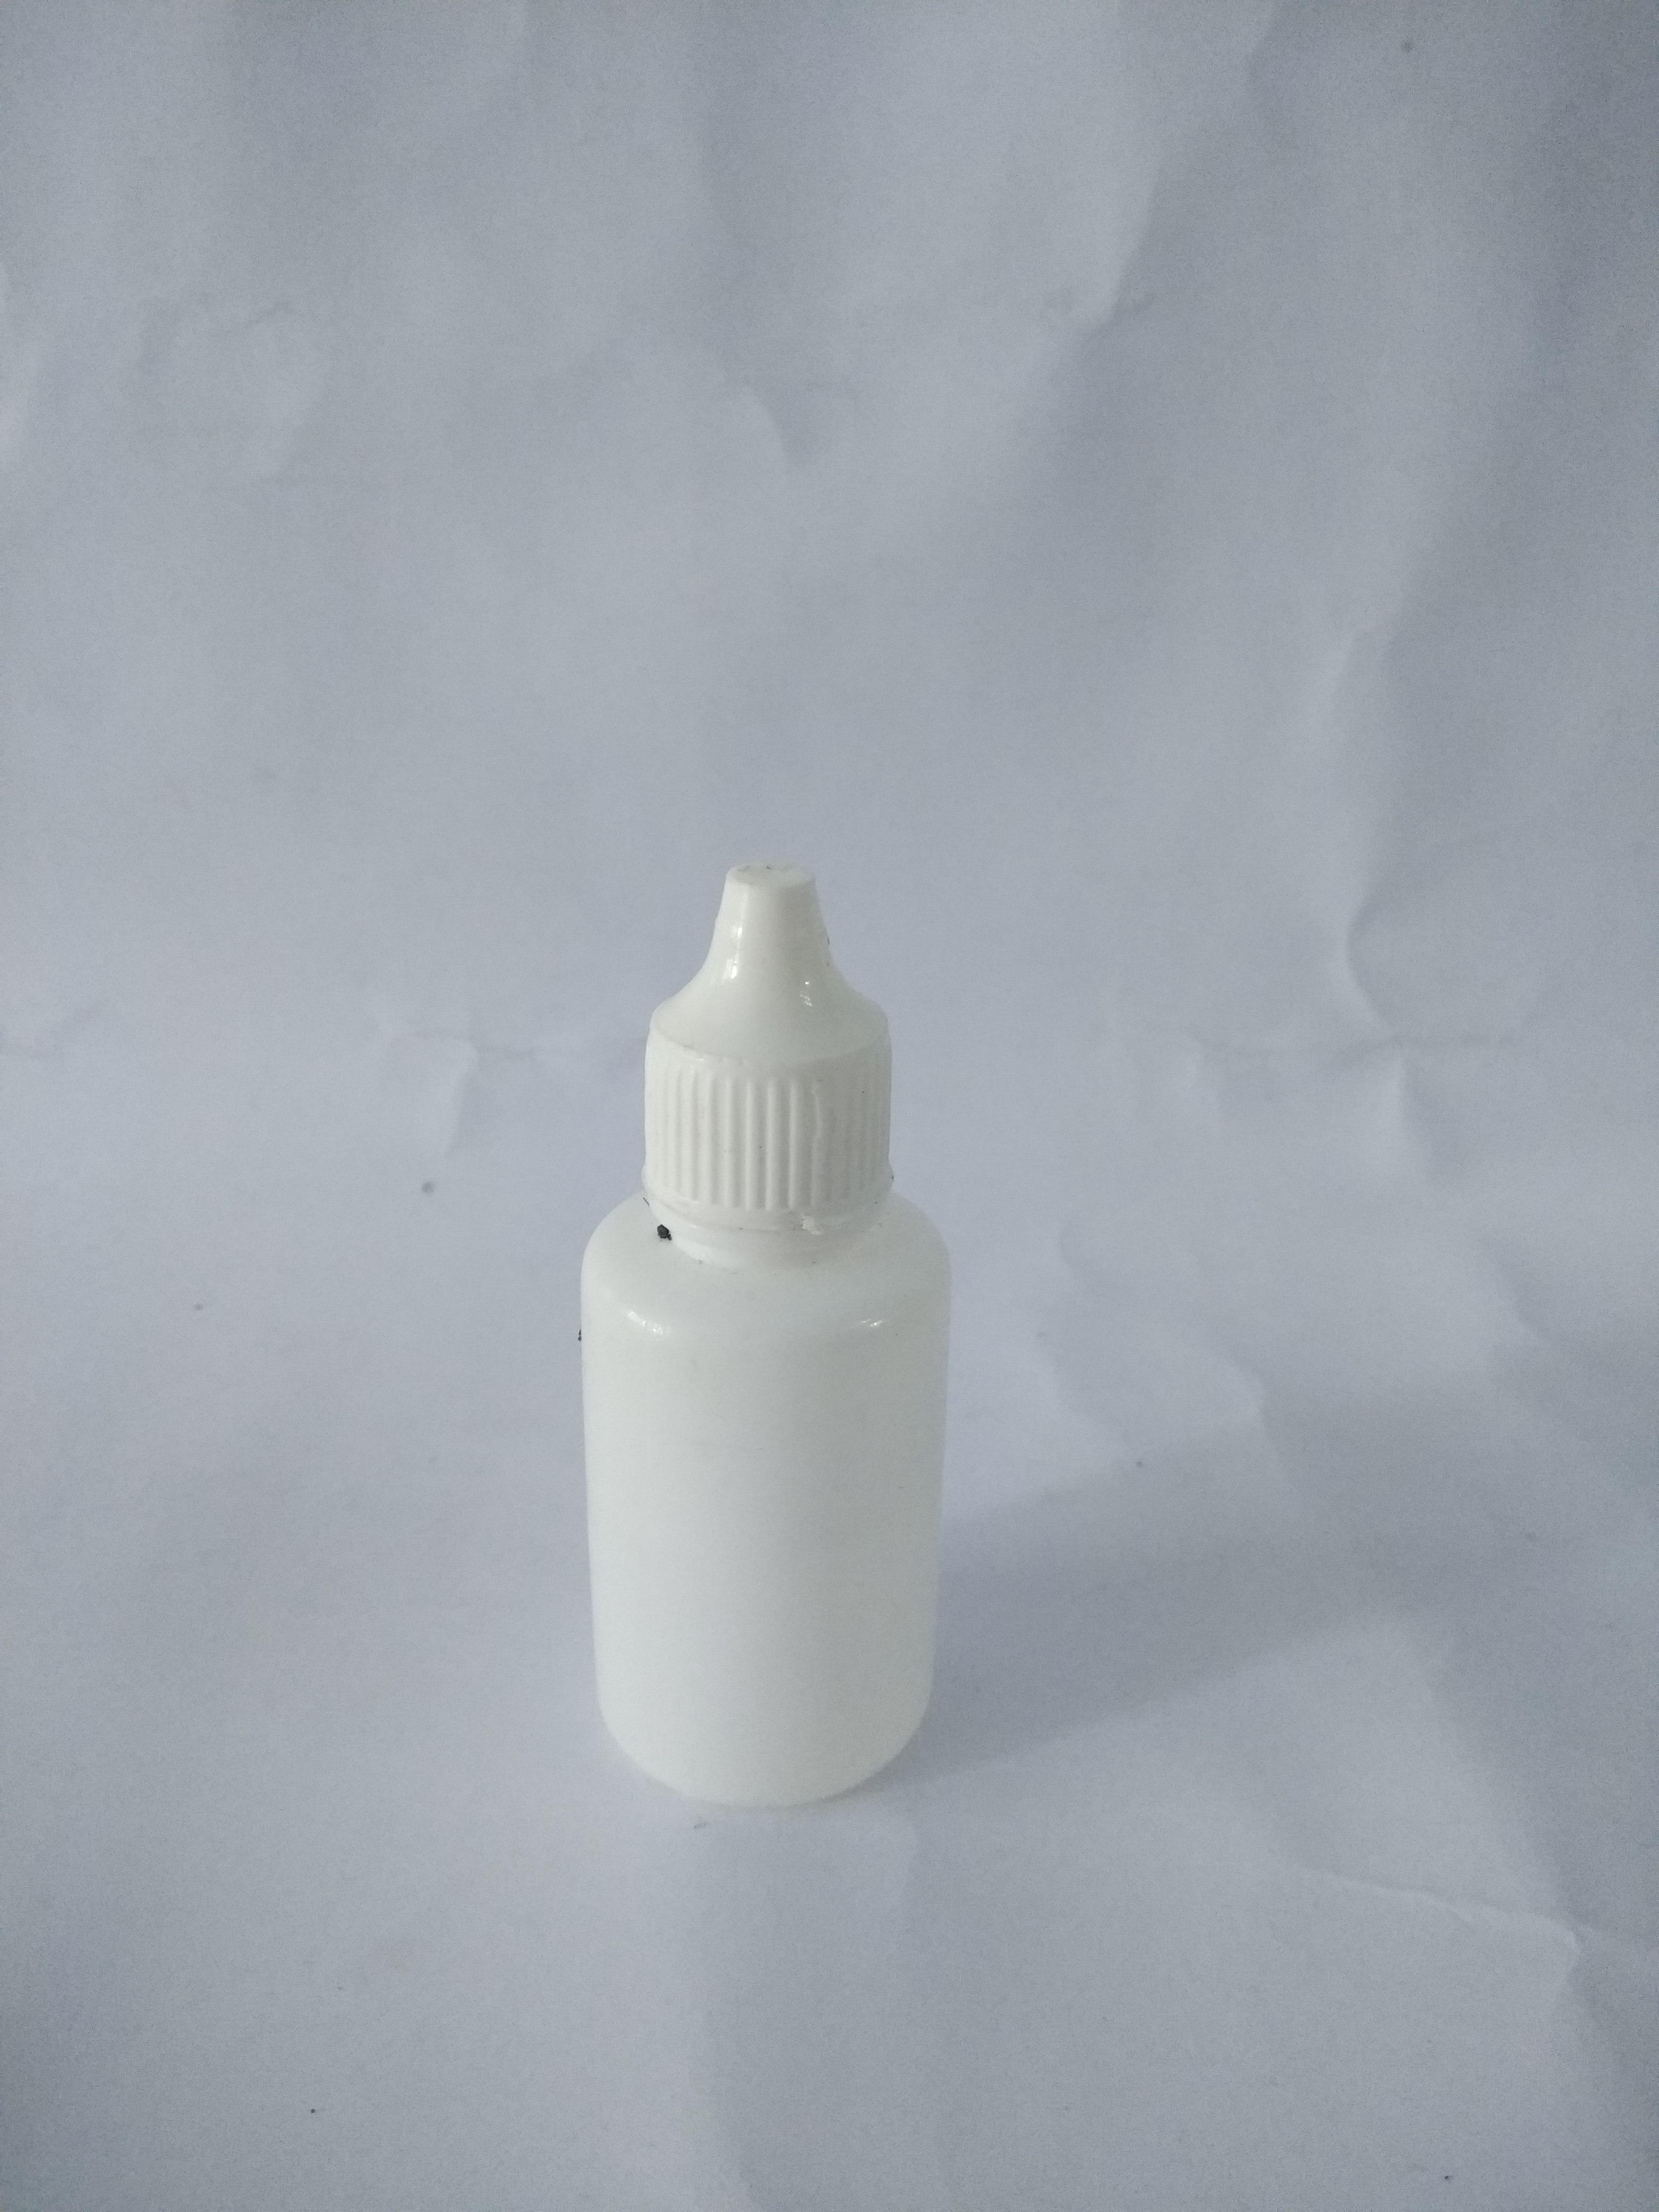HDPE: (33, 235, 1553, 2177)
